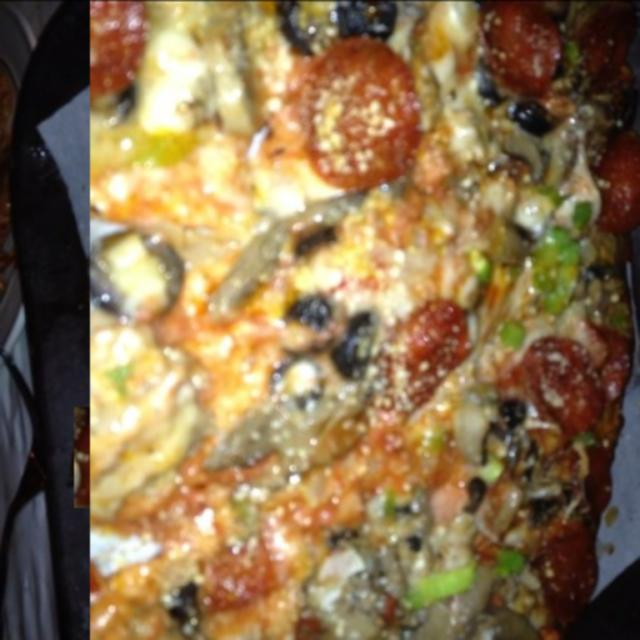olive: (546, 319, 640, 409), (336, 584, 450, 640), (354, 259, 398, 329), (593, 514, 640, 558), (164, 508, 220, 540), (528, 10, 564, 59), (399, 310, 443, 342), (207, 211, 233, 242)
pepperoni: (309, 452, 421, 602), (126, 207, 204, 306), (168, 545, 246, 640), (259, 232, 324, 337), (74, 406, 135, 507), (132, 14, 188, 115)
pizza: (90, 0, 640, 640)
